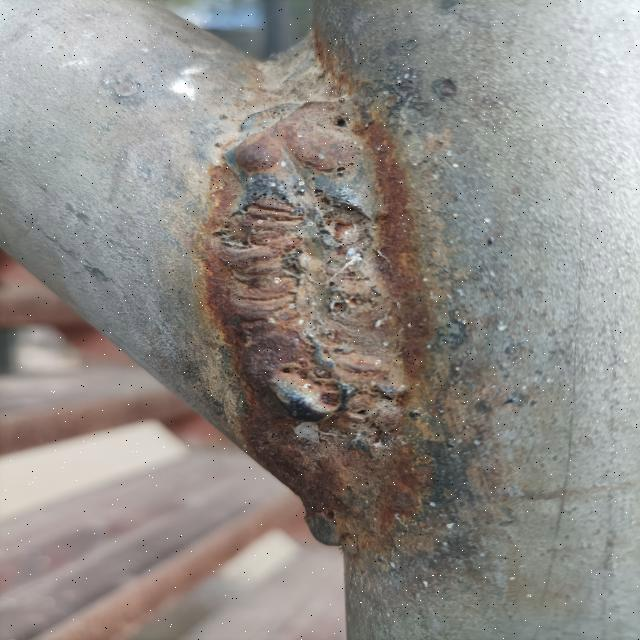Porosity: (219, 185, 295, 252), (309, 185, 379, 242), (278, 361, 342, 408), (270, 231, 307, 272), (325, 291, 370, 315), (328, 157, 359, 179), (327, 110, 353, 132), (349, 406, 373, 420), (378, 394, 397, 406)
